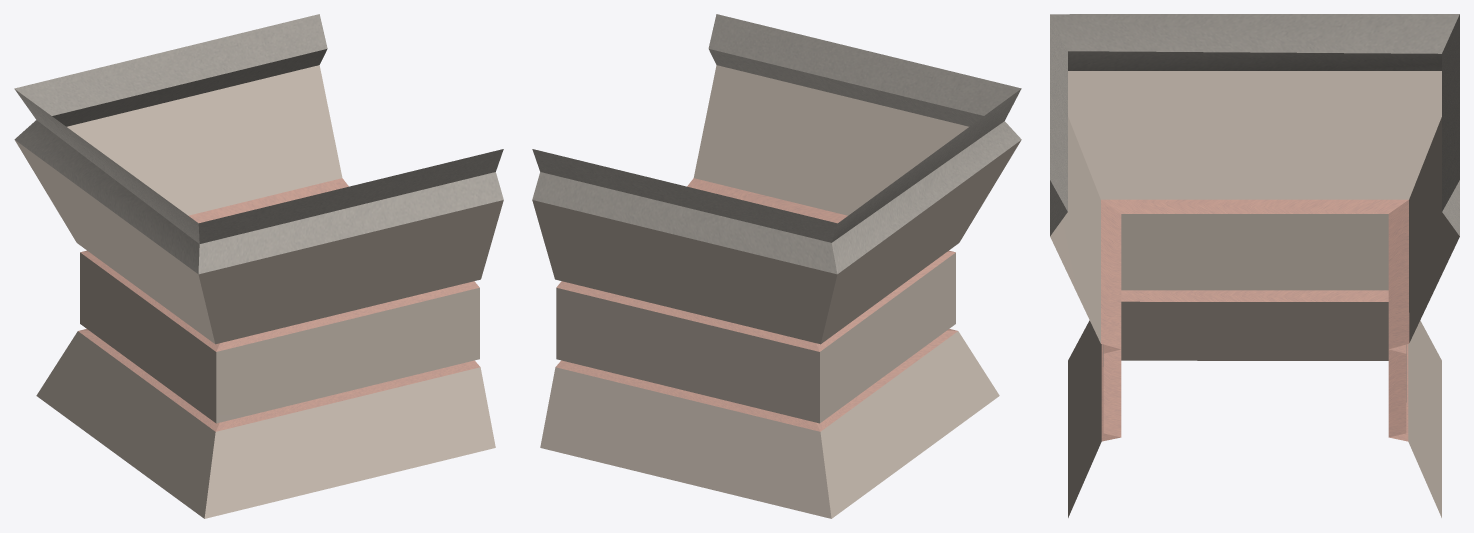
The model's file is Wall_Cuverd_Inside (29).obj.
The picture shows the model from 3 angles, left to right: view 1: azimuth 30°, elevation 25°; view 2: azimuth 150°, elevation 25°; view 3: azimuth 270°, elevation 25°; orthographic projection. The views are drawn at different scales.
Parts seen in each view (by area): view 1: Wall_Cuverd_Inside (29); view 2: Wall_Cuverd_Inside (29); view 3: Wall_Cuverd_Inside (29).
Boxes of the visible parts, x1,y1,x2,y2 form: Wall_Cuverd_Inside (29): [14, 14, 503, 518]; Wall_Cuverd_Inside (29): [532, 14, 1021, 518]; Wall_Cuverd_Inside (29): [1050, 14, 1459, 517].
Bounding box in the file's own units: 10.49 × 10 × 10.96.
